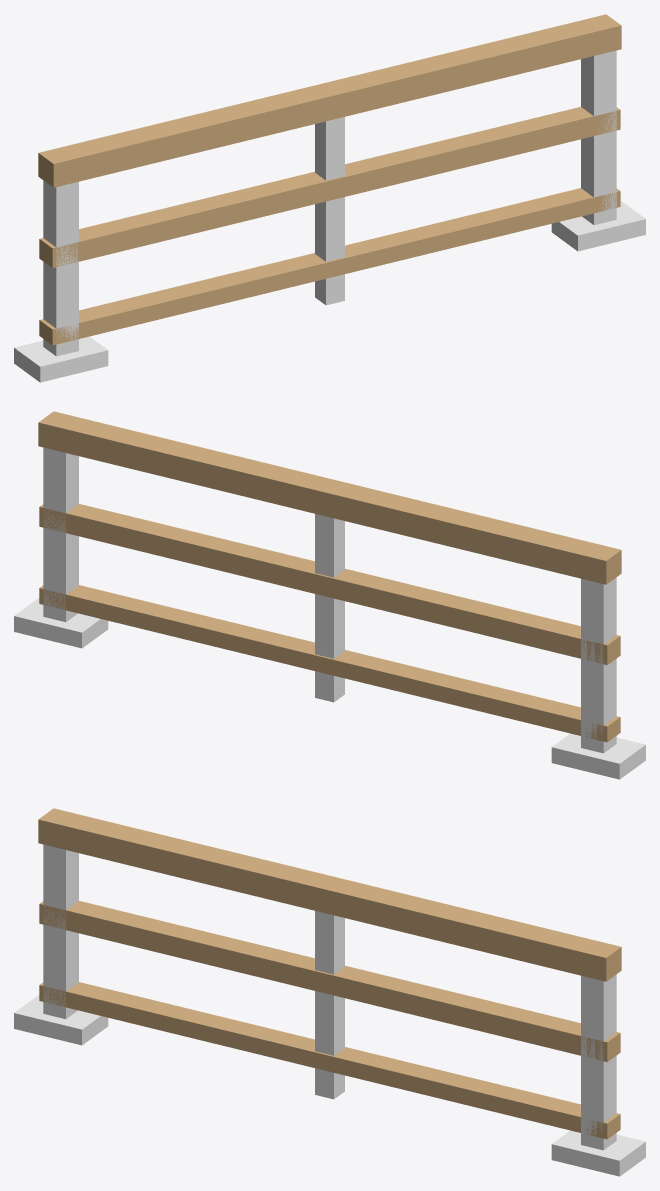
The model's file is railing.glb.
3 views of the same model, one above another, from view 1: azimuth 30°, elevation 25°; view 2: azimuth 150°, elevation 25°; view 3: azimuth 330°, elevation 25° (orthographic).
Parts seen in each view (by area): view 1: TopRail, MidRail, BottomRail, PostLeft, PostRight, PostCenter, FootLeft, FootRight; view 2: TopRail, MidRail, BottomRail, PostLeft, PostRight, PostCenter, FootLeft, FootRight; view 3: TopRail, MidRail, BottomRail, PostRight, PostLeft, PostCenter, FootRight, FootLeft.
Boxes of the visible parts, x1,y1,x2,y2 form: TopRail: (38, 14, 621, 187); MidRail: (39, 107, 620, 268); BottomRail: (39, 188, 620, 345); PostLeft: (43, 180, 78, 356); PostRight: (581, 50, 616, 225); PostCenter: (315, 117, 344, 305); FootLeft: (14, 336, 108, 382); FootRight: (551, 201, 645, 251); TopRail: (38, 411, 621, 584); MidRail: (39, 504, 620, 665); BottomRail: (39, 585, 620, 742); PostLeft: (581, 577, 616, 753); PostRight: (43, 447, 78, 622); PostCenter: (315, 514, 344, 702); FootLeft: (551, 733, 645, 779); FootRight: (14, 598, 108, 648); TopRail: (38, 808, 621, 981); MidRail: (39, 901, 620, 1062); BottomRail: (39, 982, 620, 1139); PostRight: (581, 974, 616, 1150); PostLeft: (43, 844, 78, 1019); PostCenter: (315, 911, 344, 1099); FootRight: (551, 1130, 645, 1176); FootLeft: (14, 995, 108, 1045).
Bounding box in the file's own units: 3.2 × 1.06 × 0.24.
